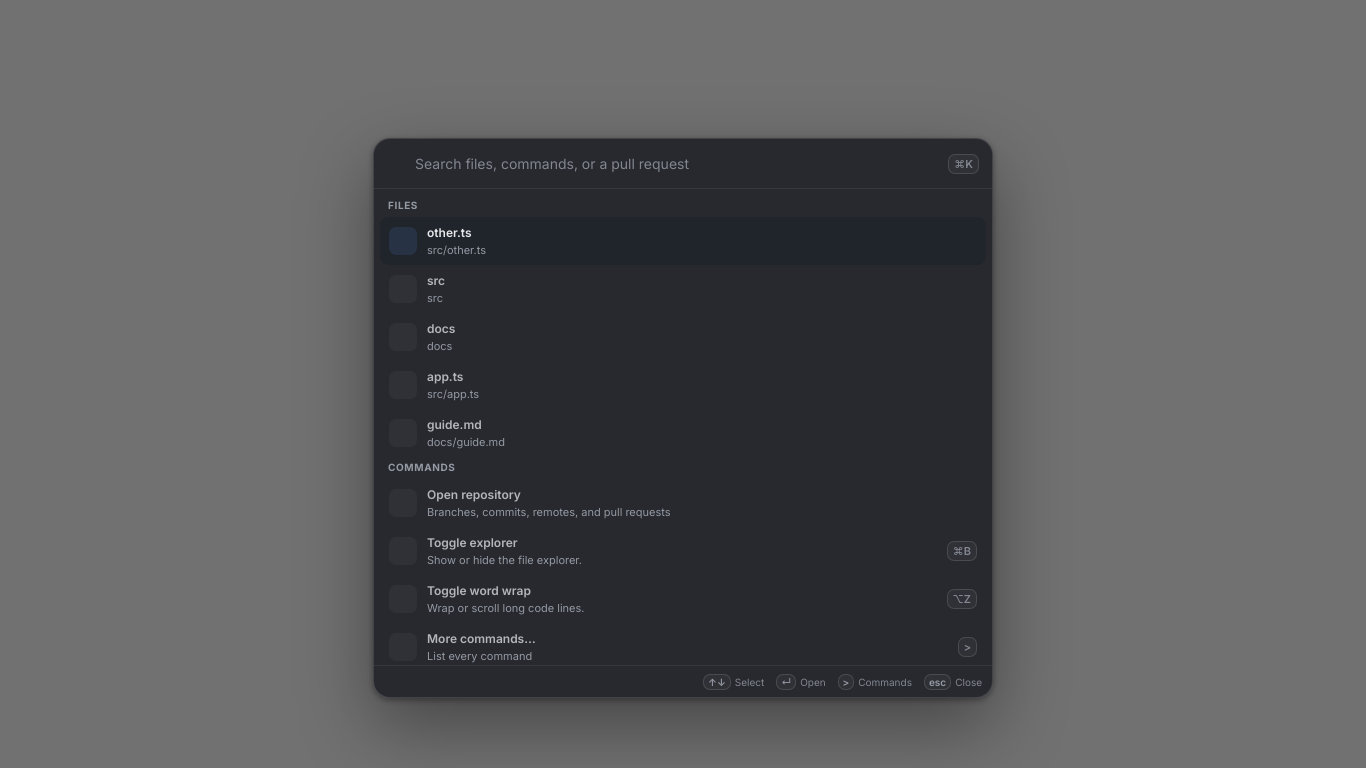
Test case: CommandPalette › a leading > keeps the palette on commands
This screenshot has width=1366, height=768.
Type ">wrap" into the field with placeholder "Search files, commands, or a pull request".
click(676, 164); type(">wrap")  # box top-left (413, 154), bottom-right (938, 173)
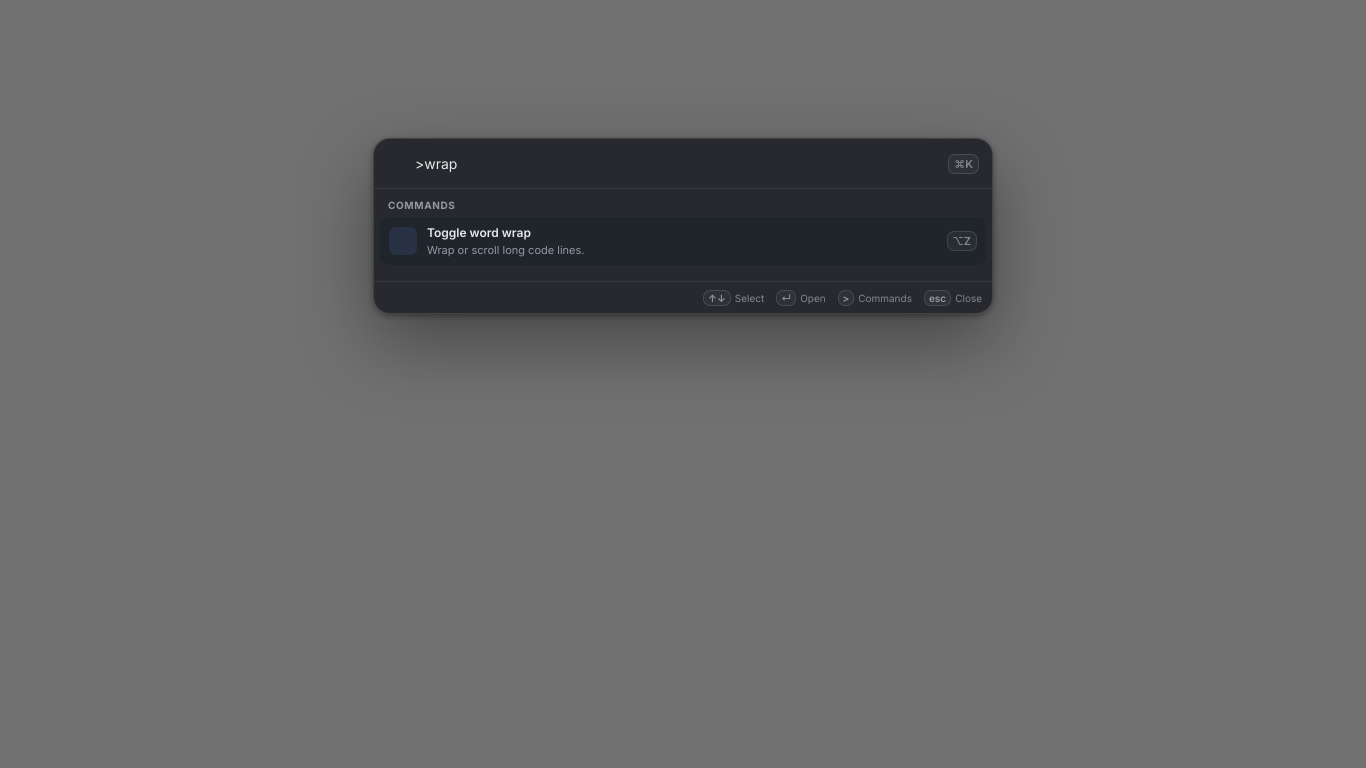
Expected: the button "Toggle word wrap Wrap or scroll long code lines. ⌥Z" is shown, top-left (380, 217), bottom-right (986, 265)
Expected: the button "app.ts" is gone
